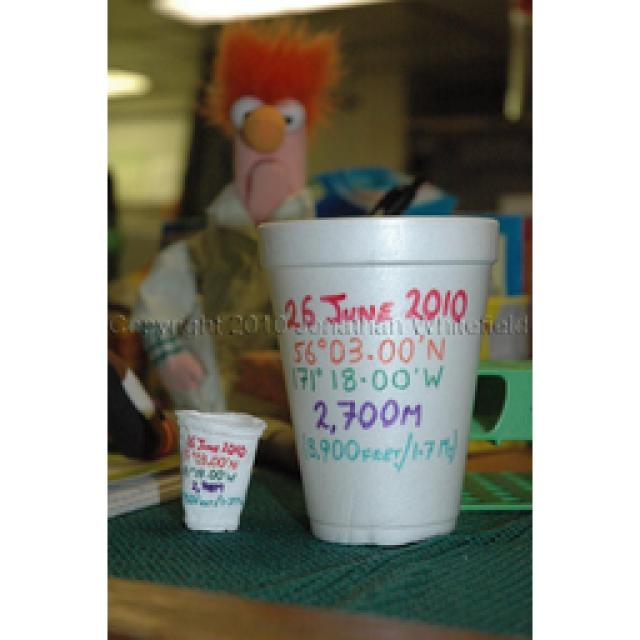styrofoam: (260, 215, 495, 540), (175, 410, 265, 530)
